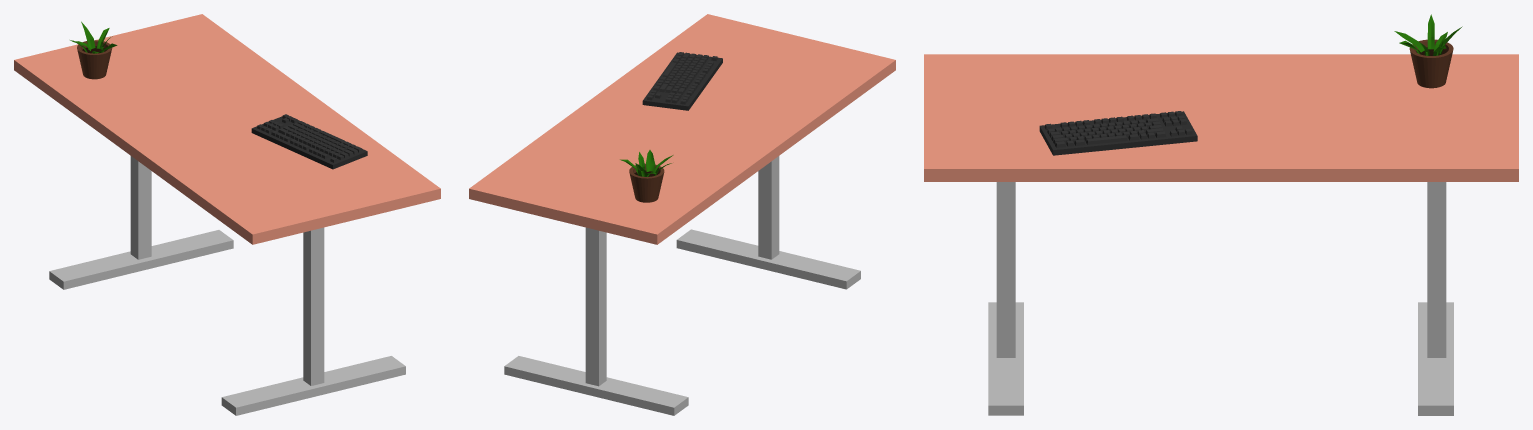
Rendered from desk.gltf.
3 views of the same model, side by side, from view 1: azimuth 30°, elevation 25°; view 2: azimuth 150°, elevation 25°; view 3: azimuth 270°, elevation 25° (orthographic). The views are drawn at different scales.
Visible parts, largest first — view 1: Desk, Cube; view 2: Desk, Cube; view 3: Desk, Cube.
Boxes of the visible parts, x1,y1,x2,y2 form: Desk: [14, 14, 440, 415]; Cube: [251, 114, 367, 169]; Desk: [469, 14, 895, 415]; Cube: [642, 52, 722, 110]; Desk: [924, 14, 1518, 415]; Cube: [1039, 111, 1197, 155].
Bounding box in the file's own units: 5.66 × 7.1 × 12.43.
